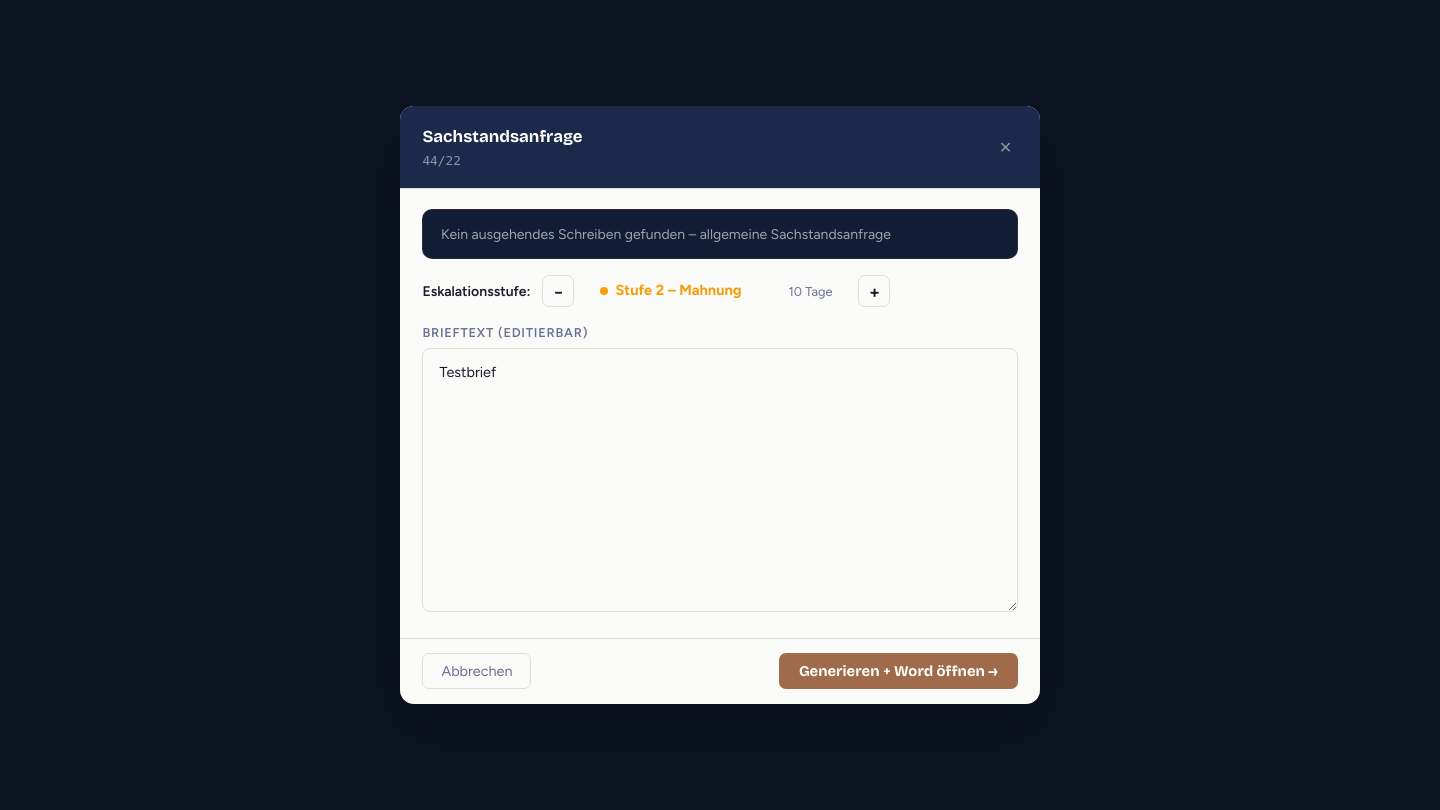
Test case: G-2 – Fristanzeige aus konfigurierten frist_tage › aktualisiert die Frist beim Stufenwechsel
Expected: the text "Stufe 2 – Mahnung" is shown, x1=616 y1=280 x2=742 y2=302
Click the button "+": coordinates (874, 291) x1=858 y1=275 x2=890 y2=307
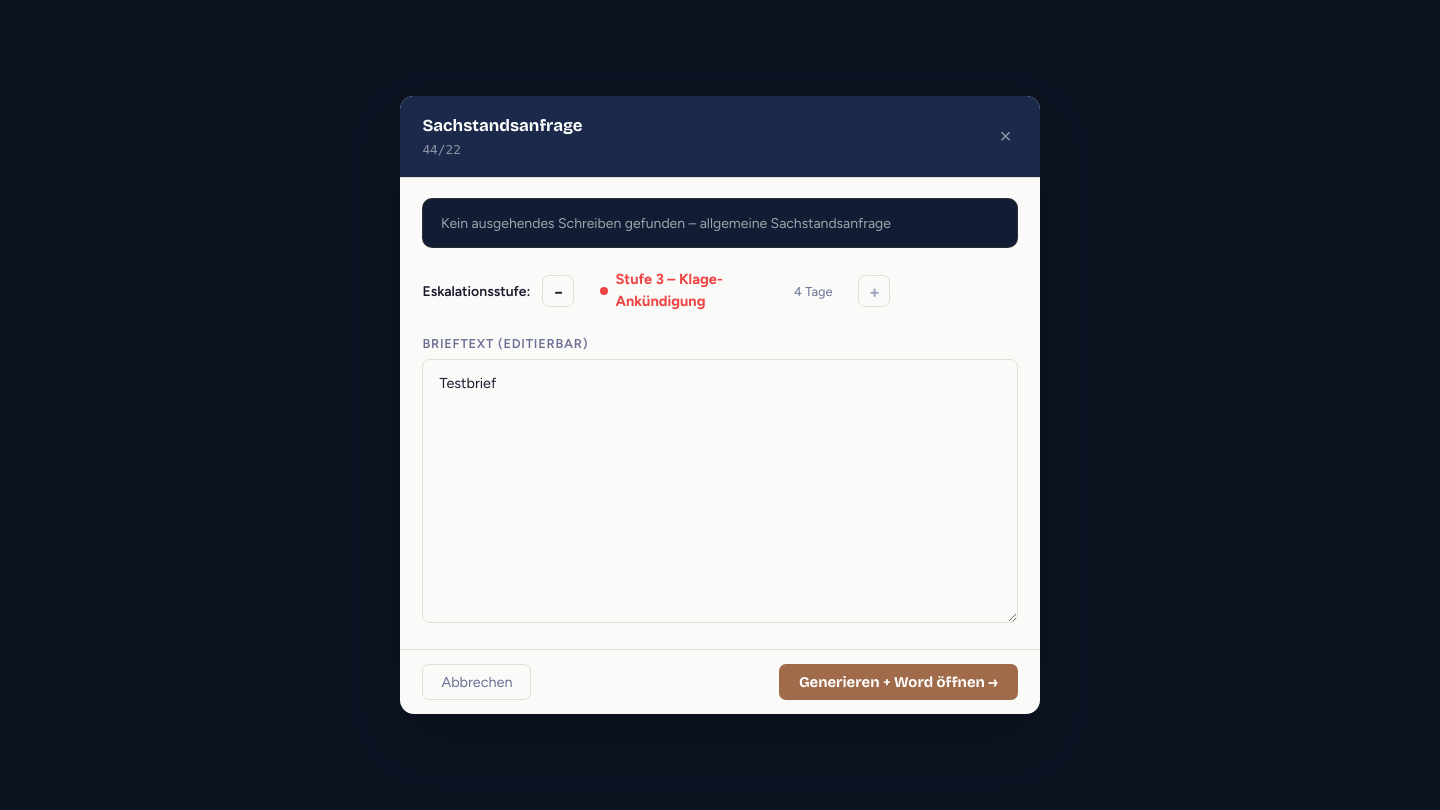
Expected: the text "Stufe 3 – Klage-Ankündigung" is shown, x1=616 y1=270 x2=723 y2=310
Expected: the text "4 Tage" is shown, x1=794 y1=282 x2=832 y2=301
